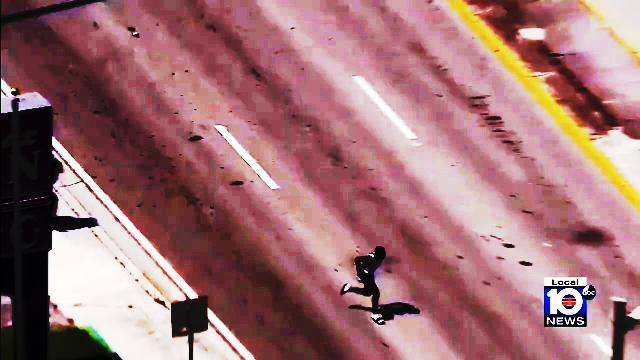berlari: (341, 243, 391, 328)
